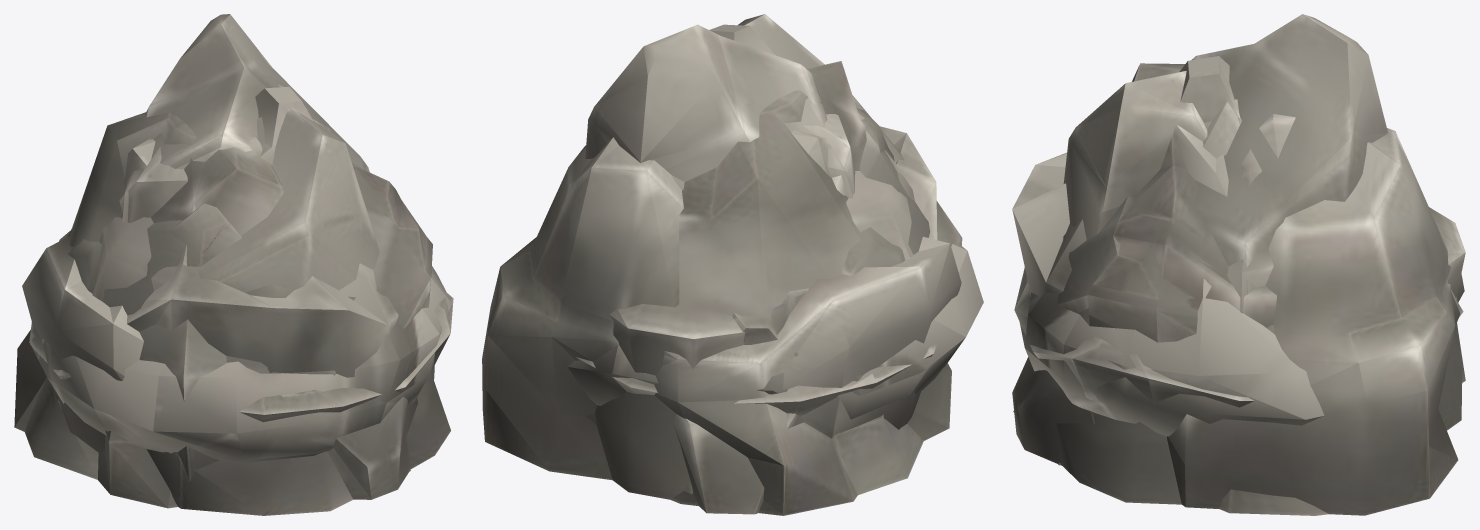
File: r32_steine.glb
The picture shows the model from 3 angles, left to right: view 1: azimuth 30°, elevation 25°; view 2: azimuth 150°, elevation 25°; view 3: azimuth 270°, elevation 25°; orthographic projection. The views are drawn at different scales.
Visible parts, largest first — view 1: stein_7, stein_0, stein_6, stein_5, stein_3, stein_1, stein_4, stein_2; view 2: stein_5, stein_7, stein_1, stein_0, stein_6, stein_3, stein_4, stein_2; view 3: stein_5, stein_1, stein_6, stein_7, stein_3, stein_0, stein_2, stein_4.
Part boxes in pixels (<box>): stein_7: <box>69,112,450,508</box>; stein_0: <box>92,106,418,499</box>; stein_6: <box>30,266,452,463</box>; stein_5: <box>14,84,434,515</box>; stein_3: <box>30,143,453,414</box>; stein_1: <box>122,14,369,221</box>; stein_4: <box>25,146,187,479</box>; stein_2: <box>29,86,439,422</box>; stein_5: <box>482,130,961,515</box>; stein_7: <box>595,61,951,499</box>; stein_1: <box>585,24,852,424</box>; stein_0: <box>673,14,962,514</box>; stein_6: <box>567,244,983,419</box>; stein_3: <box>589,108,937,403</box>; stein_4: <box>672,114,923,494</box>; stein_2: <box>576,24,933,415</box>; stein_5: <box>1013,99,1464,515</box>; stein_1: <box>1191,14,1387,294</box>; stein_6: <box>1019,279,1460,436</box>; stein_7: <box>1012,63,1465,504</box>; stein_3: <box>1014,117,1463,400</box>; stein_0: <box>1012,71,1465,465</box>; stein_2: <box>1022,56,1276,407</box>; stein_4: <box>1173,125,1328,515</box>.
Size of the model in its own units: 1 by 1 by 1.
8 materials, 8 textured.
